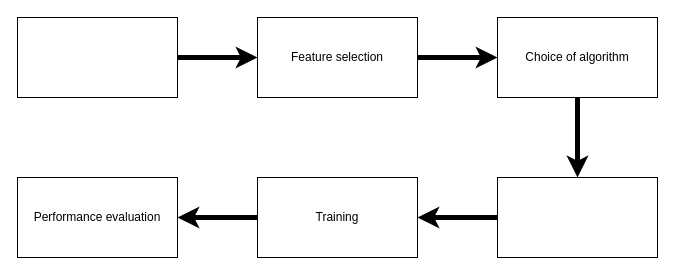
Image size: 675x275. Some labels were removed from this diagram. The shapes that lost their labels are listed below. From the top down, each one's centre as x and y in pixels, then its label:
(x=97, y=57): Collection and preparation of dataset
(x=577, y=217): Selection of model and parameters
